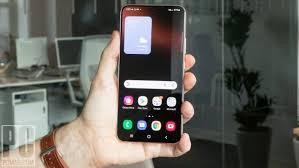Hand: (101, 35, 197, 162)
Smartphone: (119, 5, 181, 144)
